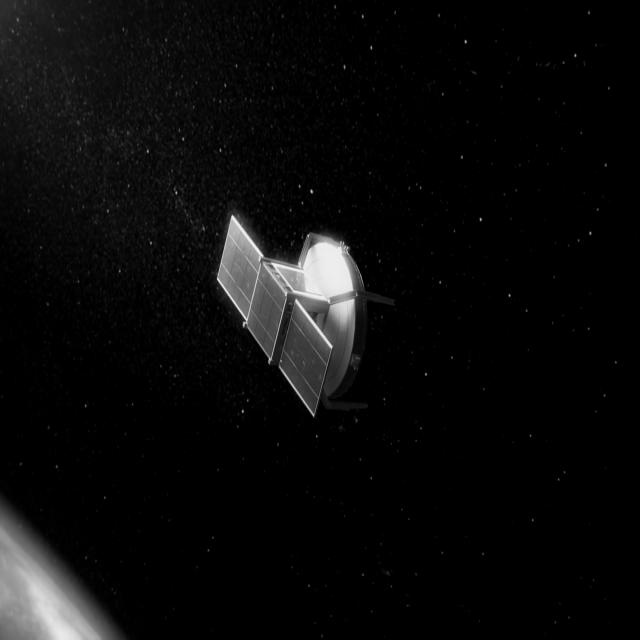medium_debris: (201, 193, 404, 436)
